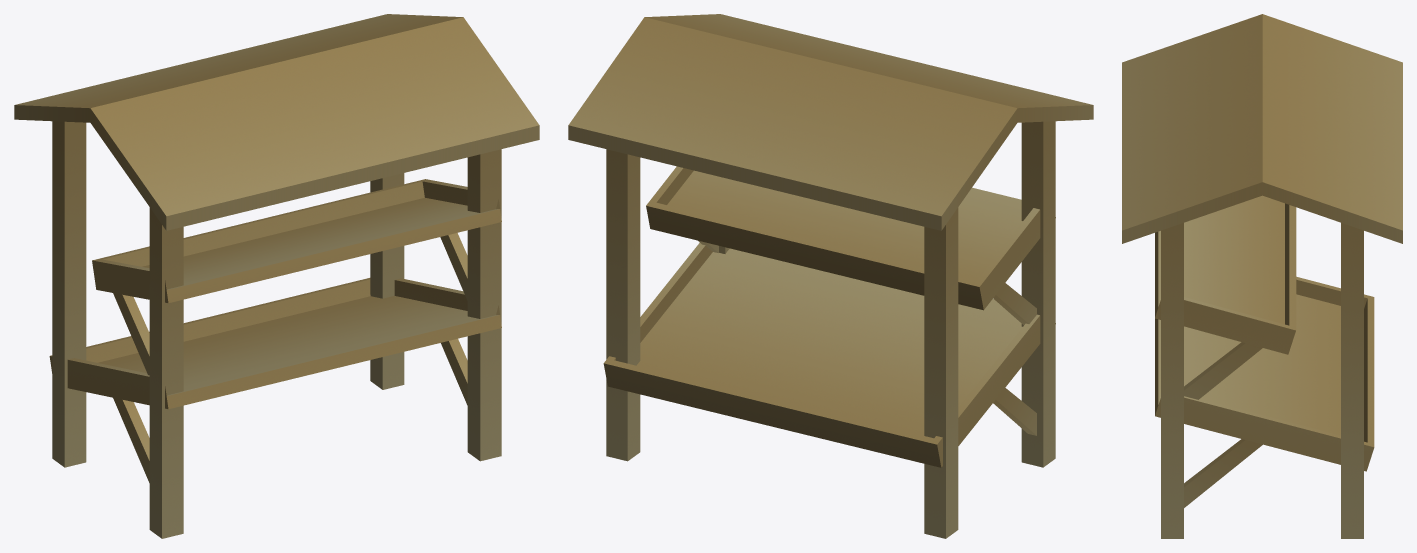
File: vegetable_stand0.glb
3 views of the same model, side by side, from view 1: azimuth 30°, elevation 25°; view 2: azimuth 150°, elevation 25°; view 3: azimuth 270°, elevation 25° (orthographic). The views are drawn at different scales.
Parts seen in each view (by area): view 1: VegetableStand; view 2: VegetableStand; view 3: VegetableStand.
Part boxes in pixels (x1=…): VegetableStand: x1=14, y1=14, x2=539, y2=538; VegetableStand: x1=568, y1=14, x2=1093, y2=538; VegetableStand: x1=1122, y1=14, x2=1402, y2=538.
Size of the model in its own units: 2.83 by 2.86 by 2.
1 material, 1 textured.
